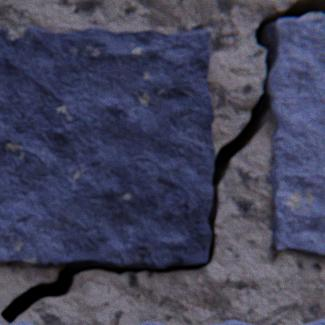brick: (0, 27, 214, 269), (266, 16, 324, 256), (213, 320, 250, 324), (304, 319, 324, 324), (1, 321, 32, 324), (139, 322, 162, 324)
crack: (0, 0, 324, 323)
